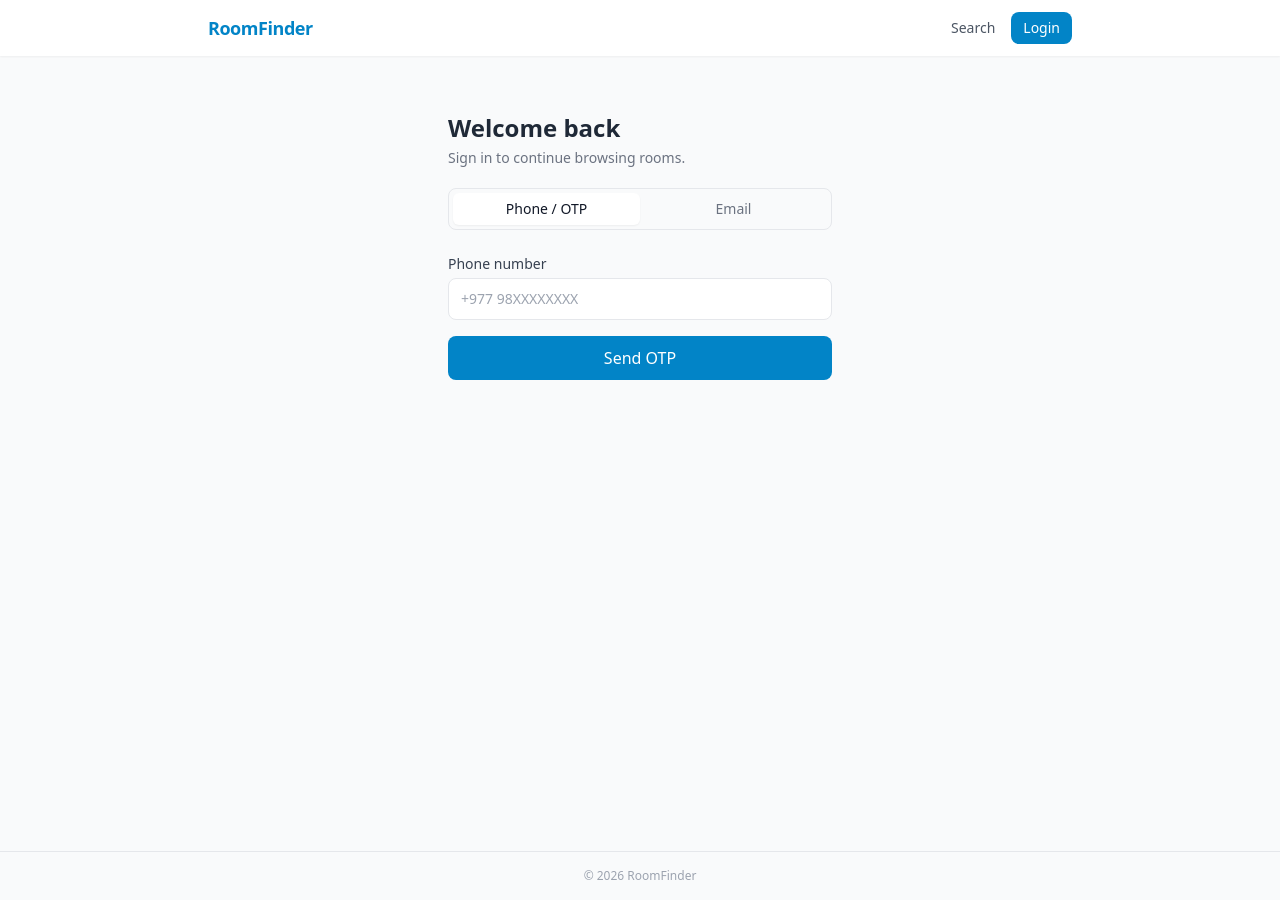
LoginPage — Phone OTP flow › advances to OTP step after requestOtp succeeds
In the field with placeholder "+977 98XXXXXXXX": (640,299) [448,278,832,320], type "+9779800000000"
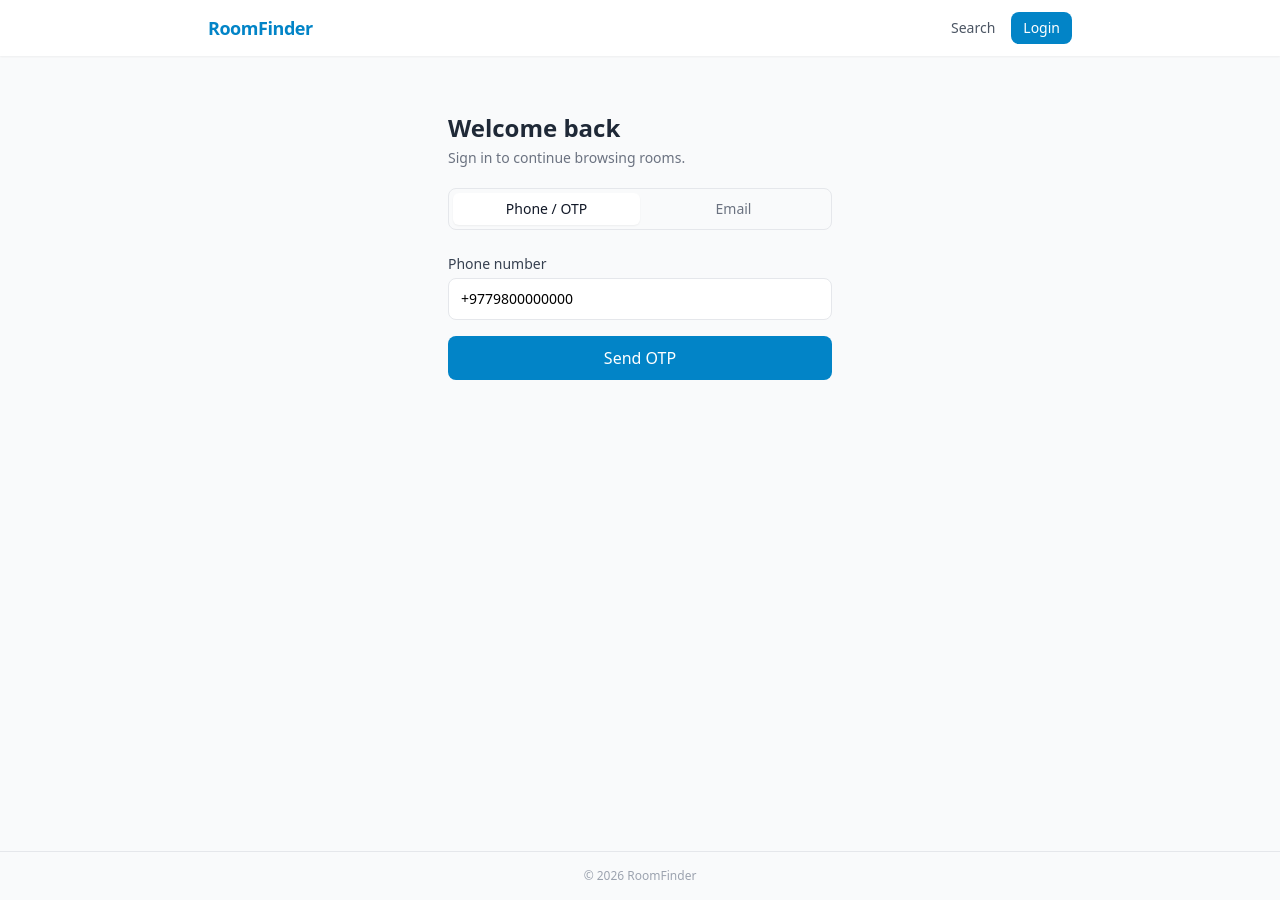
Click the button "Send OTP": (640,358) [448,336,832,380]
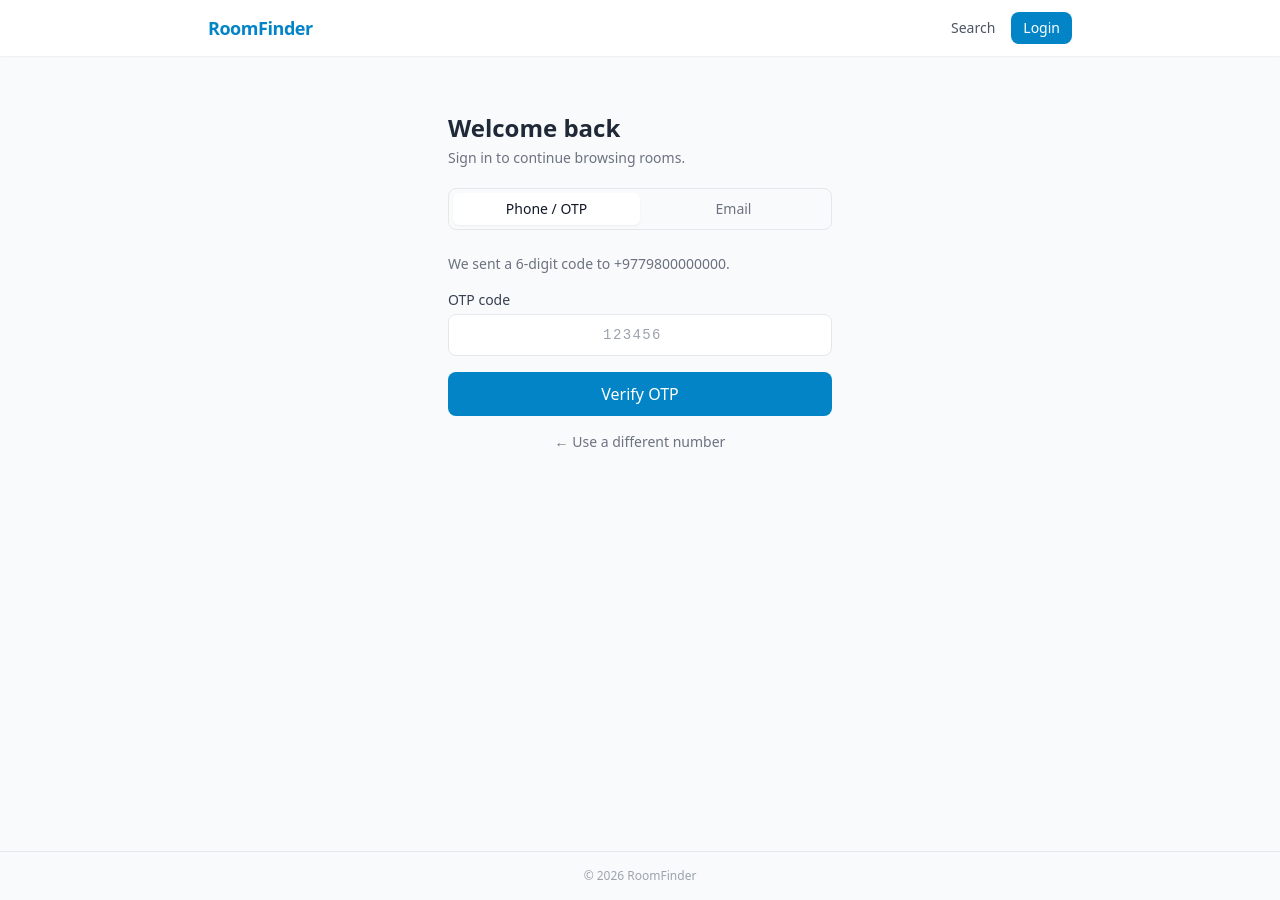
Result: the text "We sent a 6-digit code to +9779800000000." is shown at [448,254,730,273]
